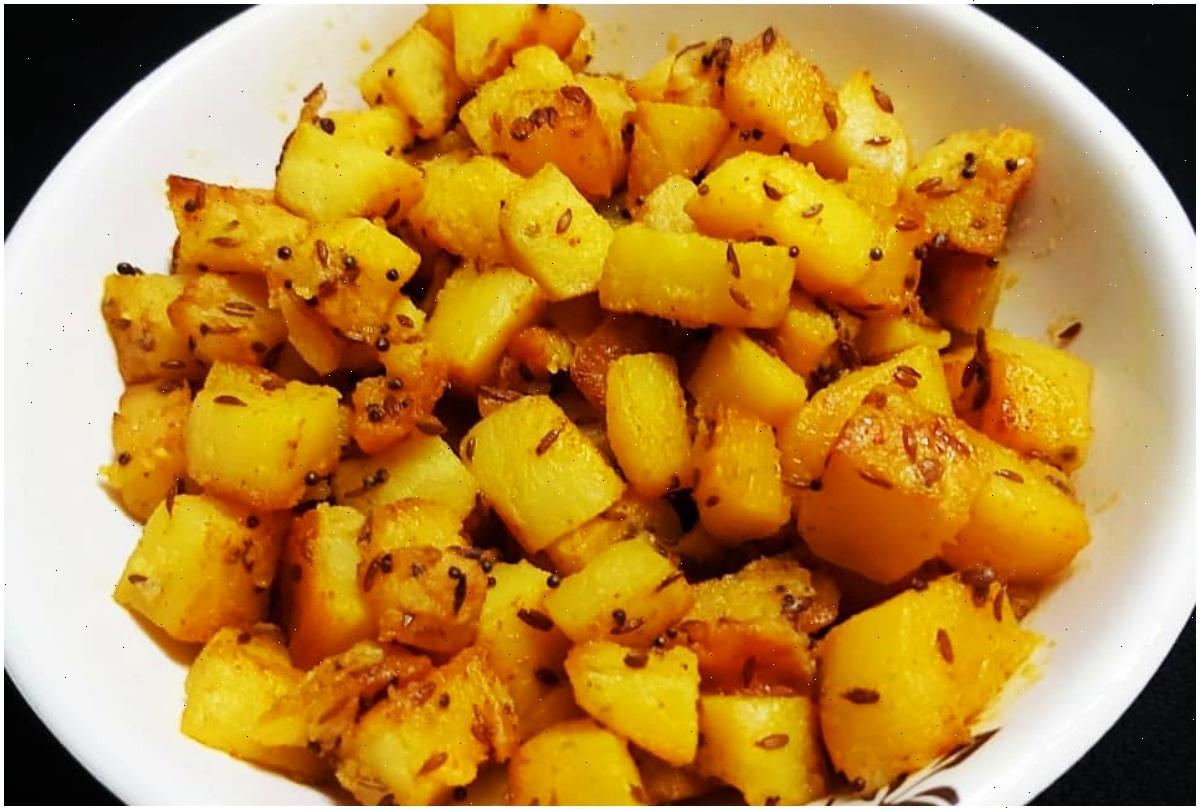aloo sabji: (197, 67, 1085, 810)
